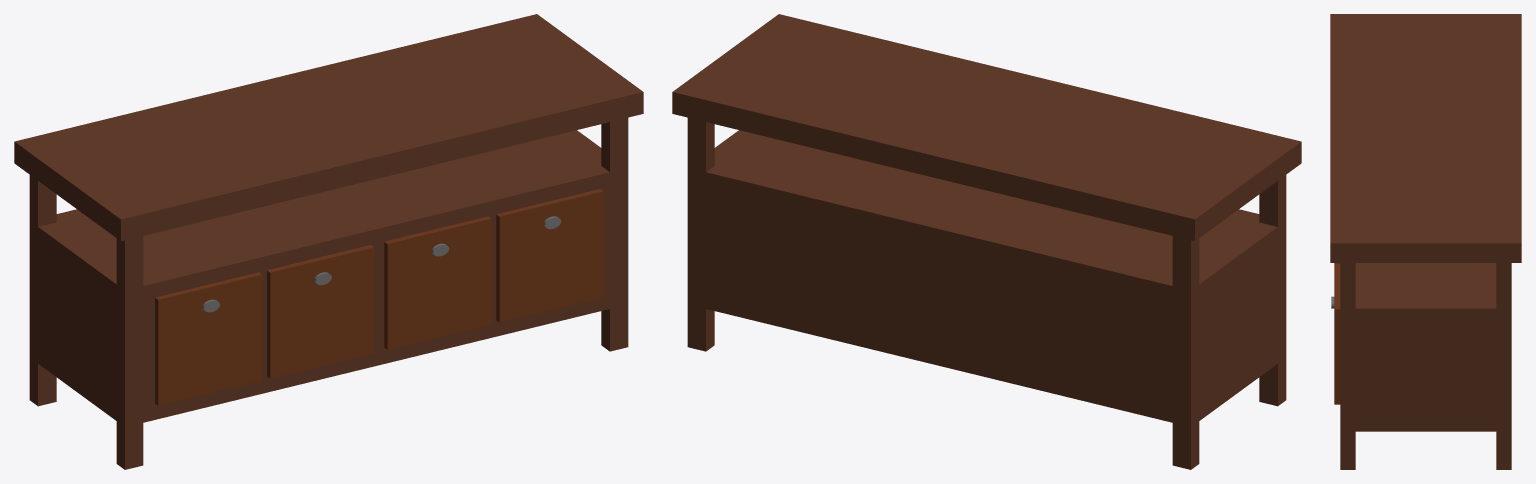
The model's file is tableLong.fbx.
3 views of the same model, side by side, from view 1: azimuth 30°, elevation 25°; view 2: azimuth 150°, elevation 25°; view 3: azimuth 270°, elevation 25° (orthographic). The views are drawn at different scales.
Visible parts, largest first — view 1: Long Table; view 2: Long Table; view 3: Long Table.
Part boxes in pixels (<box>): Long Table: <box>14,14,643,469</box>; Long Table: <box>672,14,1301,469</box>; Long Table: <box>1330,14,1521,469</box>.
Bounding box in the file's own units: 210 × 74.13 × 98.62.
